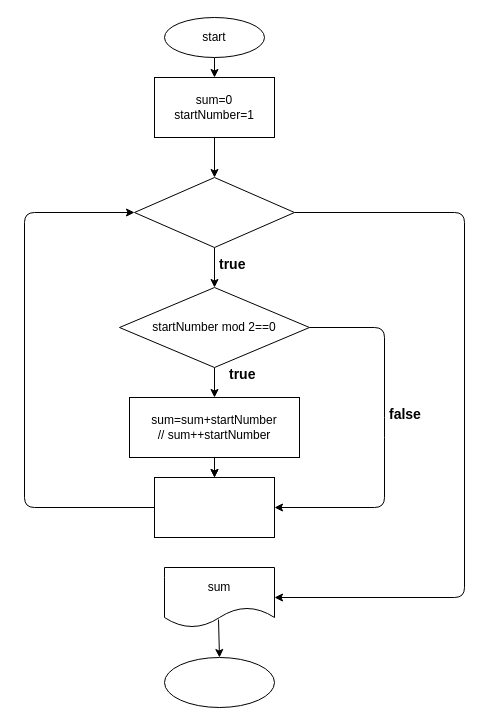
This 490x725 diagram has some shape labels left out. The shapes that lost their labels are listed below. From the top down, each one's centre as x and y in pixels, then its label:
At pixel 214 212: "startNumber<=15".
At pixel 214 507: "startNumber +=1".
At pixel 219 682: "end".
